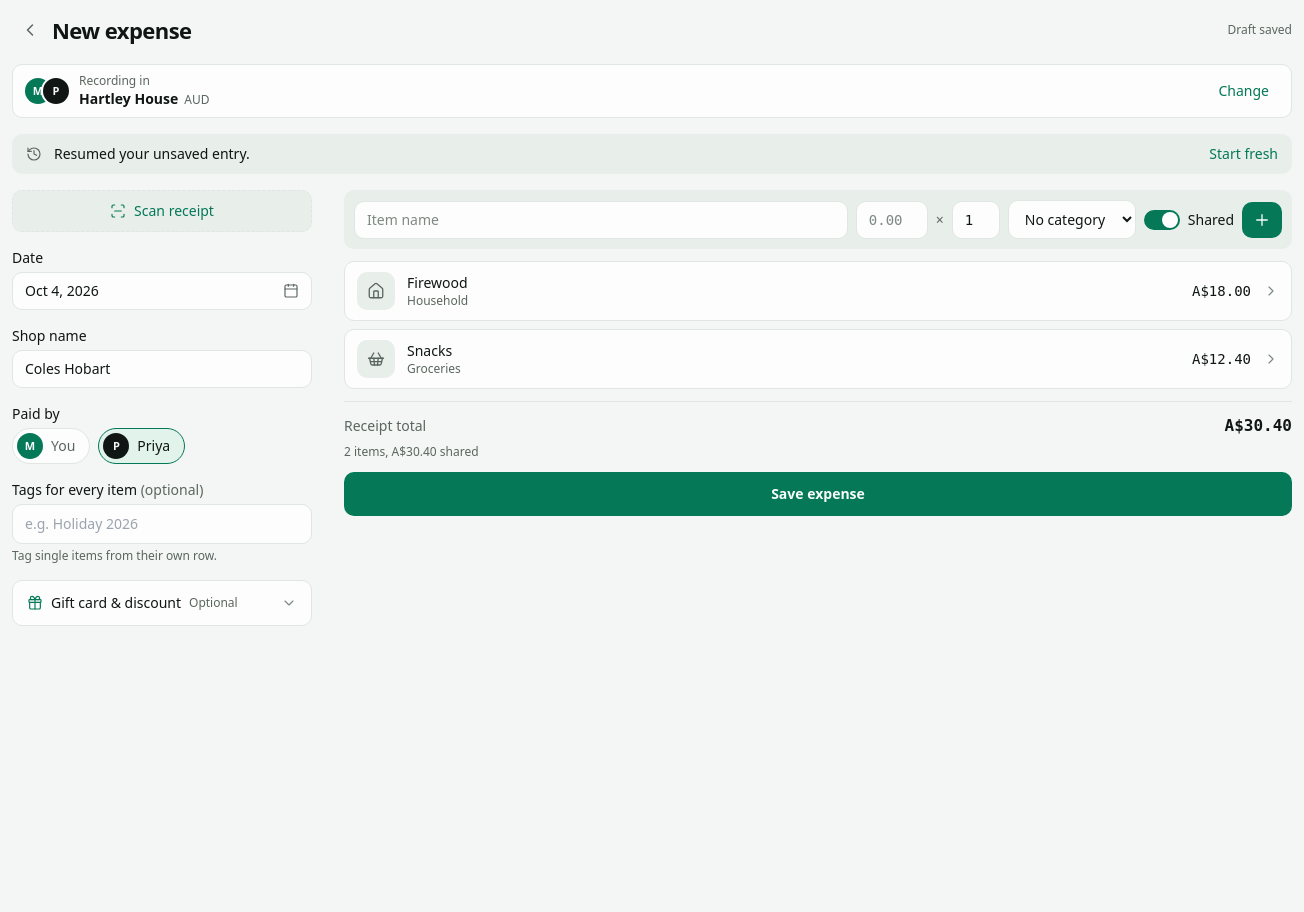
Scenario: ExpenseEditor changing group › when the target group already has an unsaved entry › keeps both entries when replacing is cancelled
Click the button with aria-label "change group" at (1244, 91), box [1208, 75, 1279, 107]
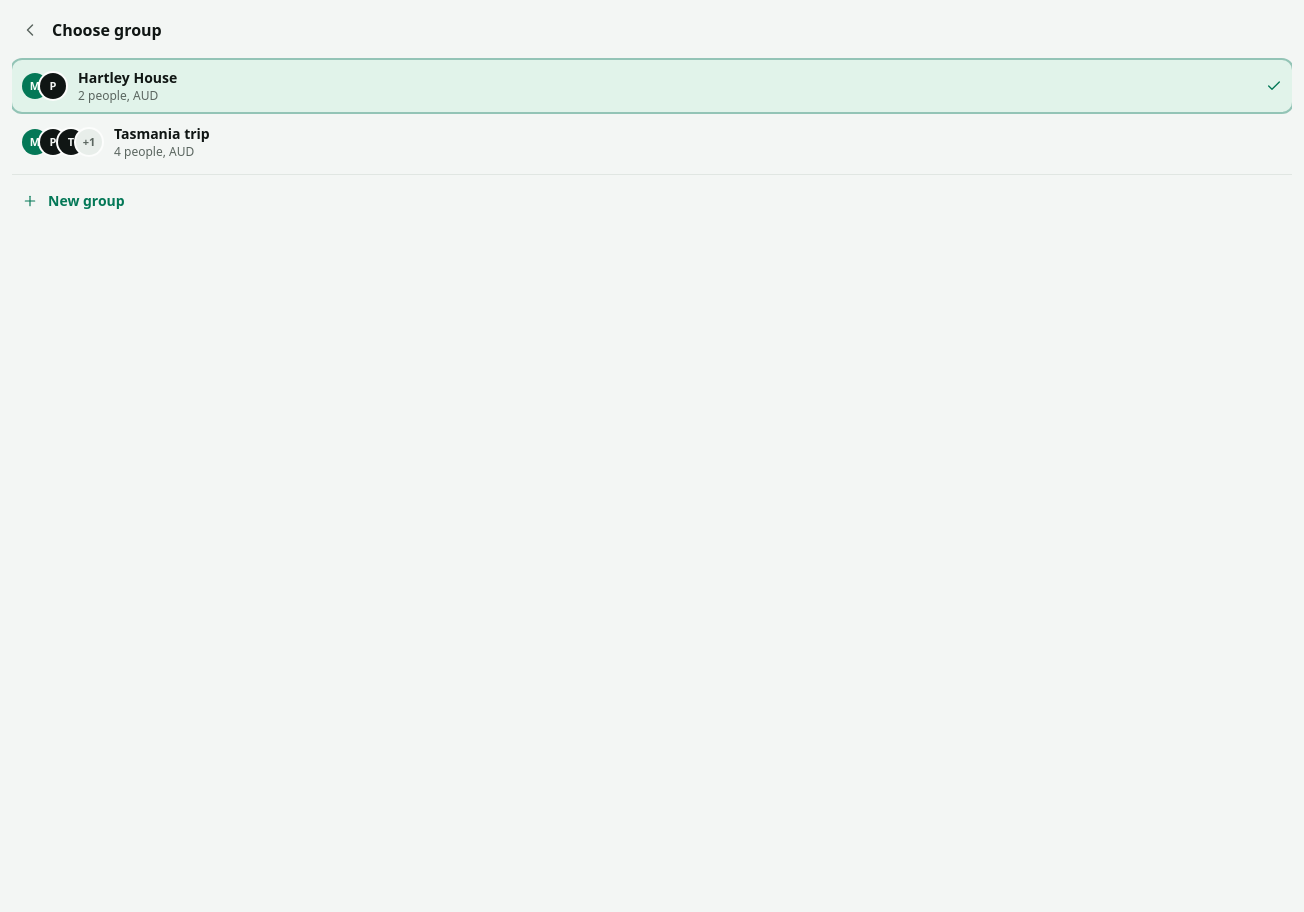
Click the option "M P T +1 Tasmania trip 4 people, AUD" at (116, 142), box [22, 124, 210, 160]
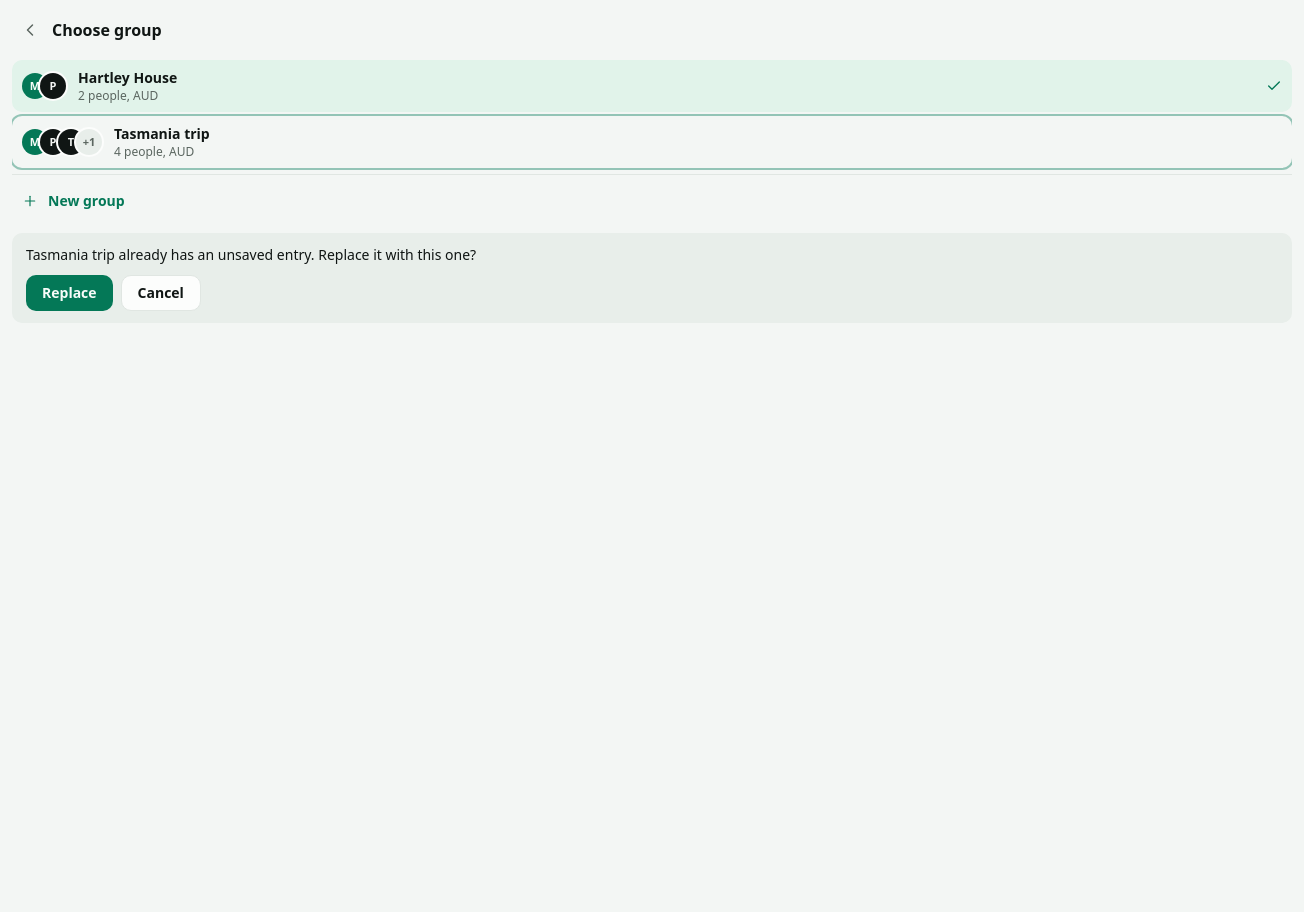
Click the button "Cancel" at (161, 293), box [121, 275, 201, 311]
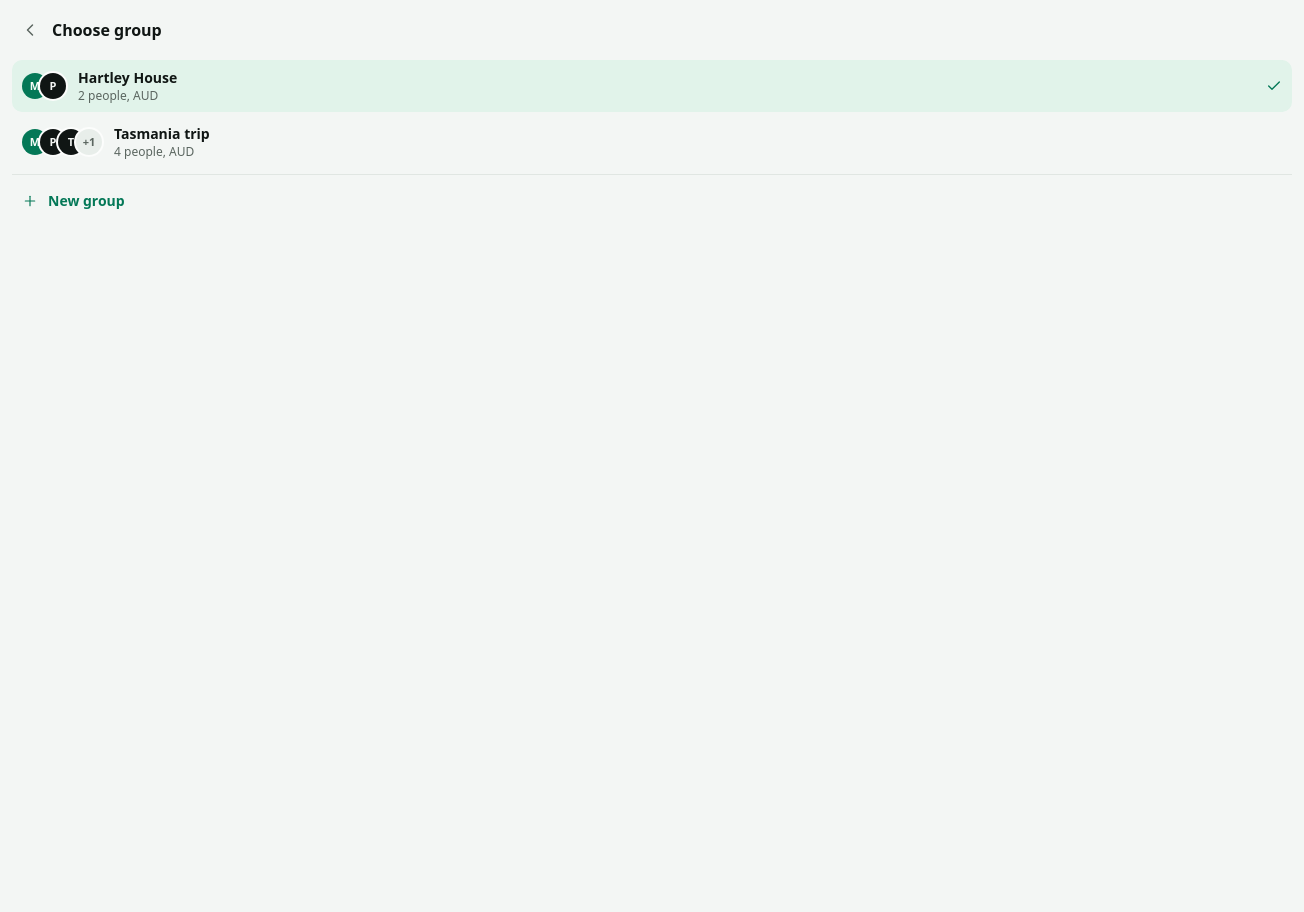
Check: the text "already has an unsaved entry" is gone
